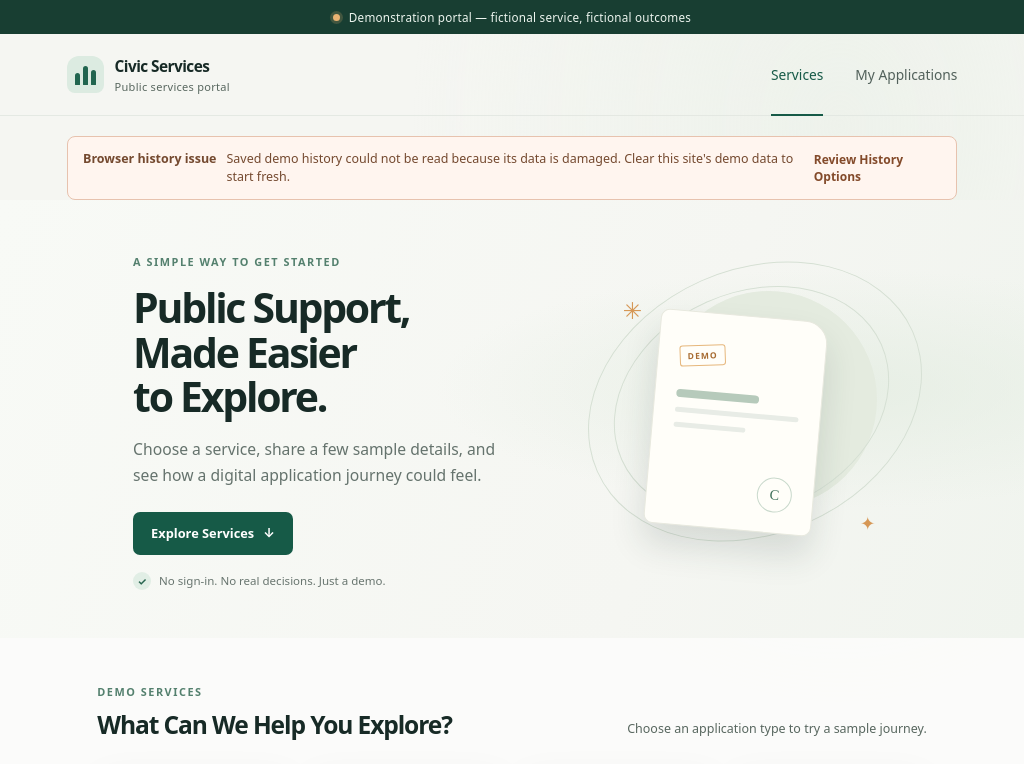
Test case: application journey › allows recovery from damaged browser history
This screenshot has width=1024, height=764.
Check: the text "data is damaged" is shown, box [226, 150, 793, 185]
Click the button "Review History Options".
click(877, 168)  # box [814, 150, 941, 186]
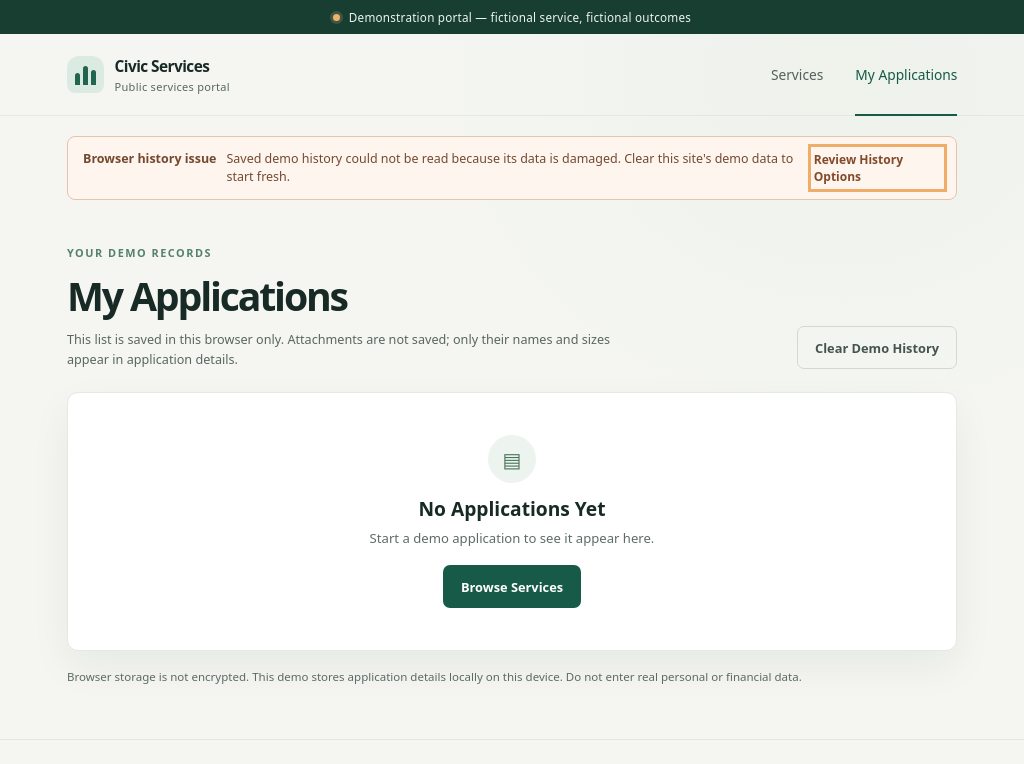
Click the button "Clear Demo History".
click(877, 348)  # box [797, 326, 957, 369]
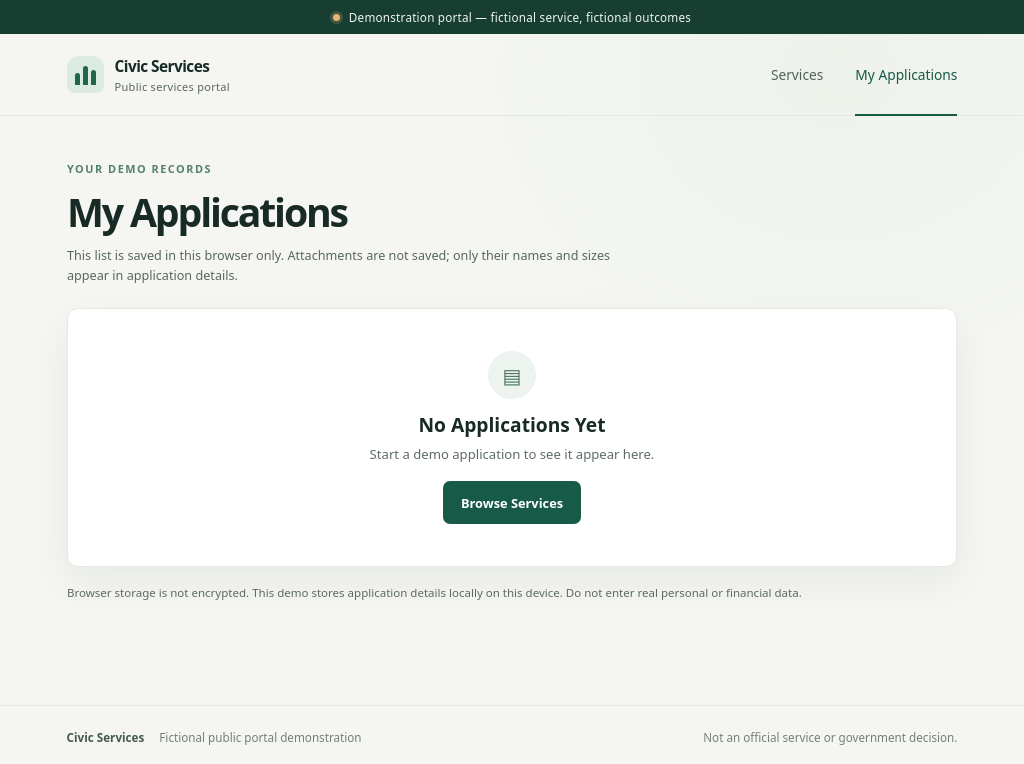
Check: the text "data is damaged" is gone
